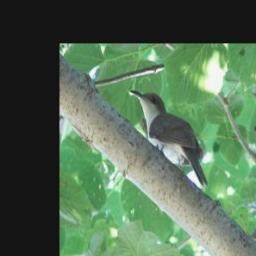Cuckoo: (128, 89, 209, 189)
